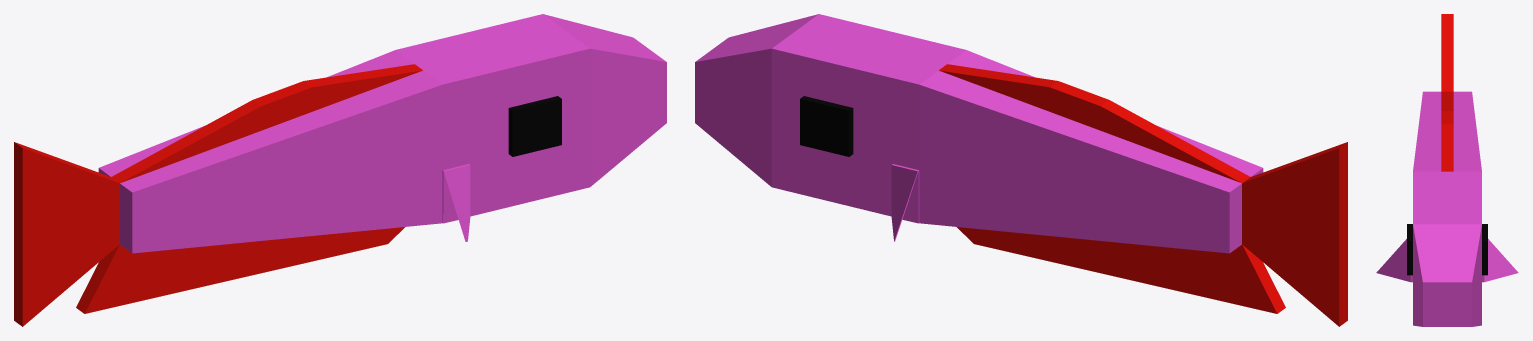
The model's file is Fish.fbx.
3 renders of one model, left to right at view 1: azimuth 30°, elevation 25°; view 2: azimuth 150°, elevation 25°; view 3: azimuth 270°, elevation 25°, orthographic. The views are drawn at different scales.
Visible parts, largest first — view 1: Fish; view 2: Fish; view 3: Fish.
Boxes of the visible parts, x1,y1,x2,y2 form: Fish: (14,14,666,326); Fish: (695,14,1347,326); Fish: (1376,14,1518,326).
Size of the model in its own units: 2169 by 607 by 580.
